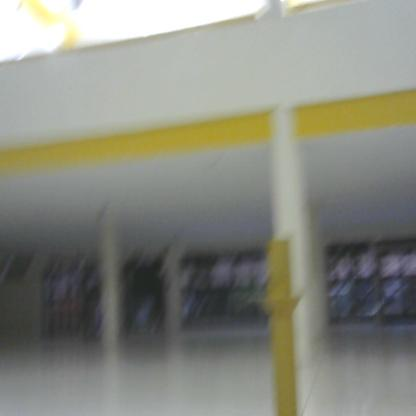pole: (253, 230, 310, 416)
